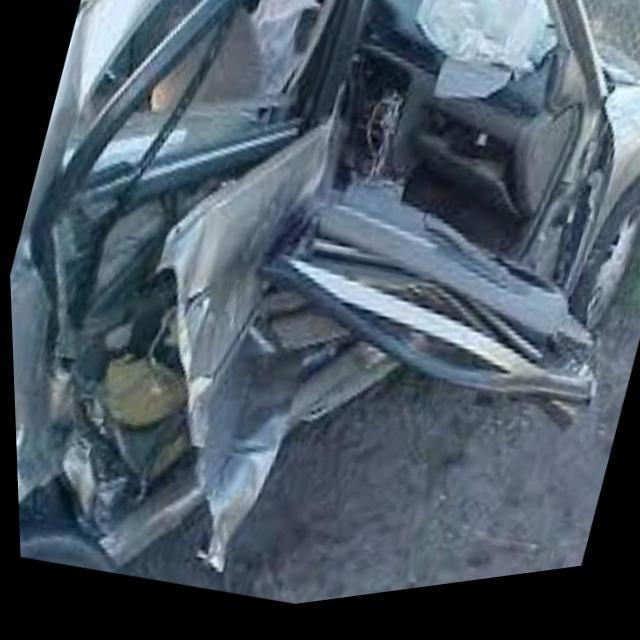crash: (8, 0, 607, 578)
